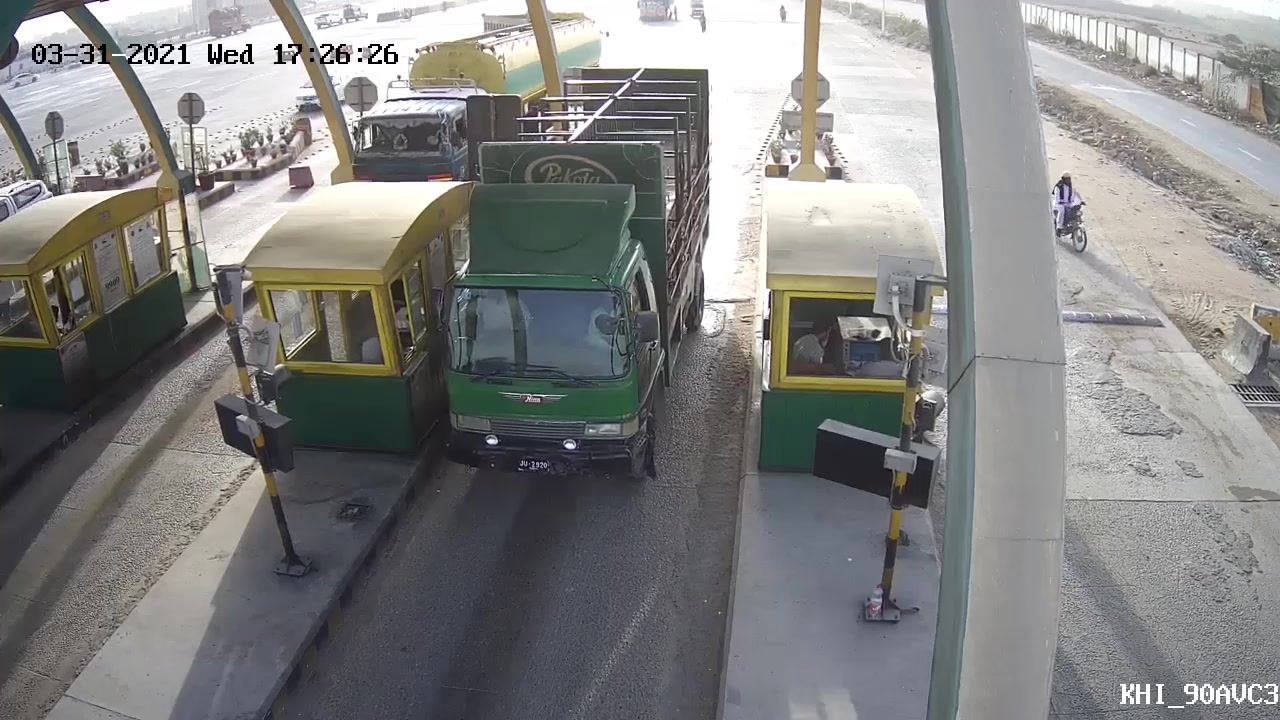F5: (447, 66, 707, 499)
